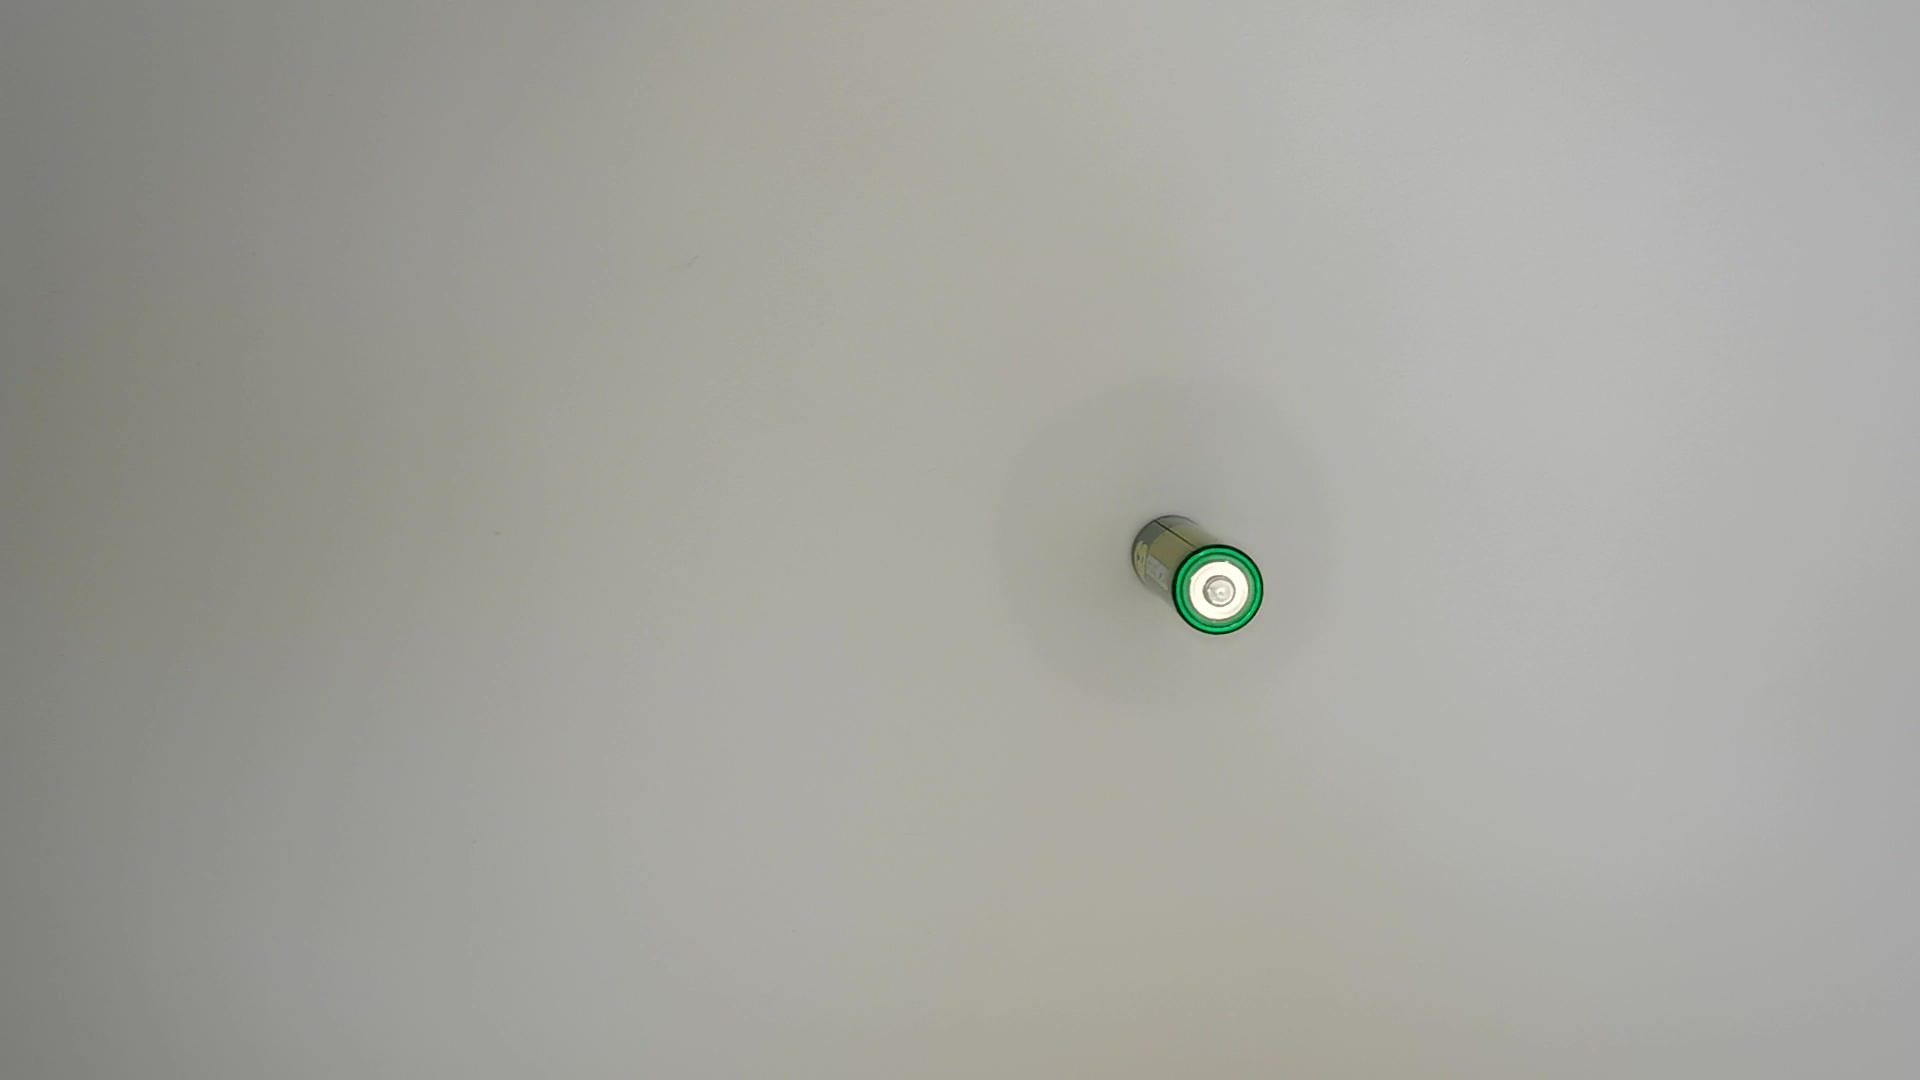battery: (1120, 512, 1266, 650)
